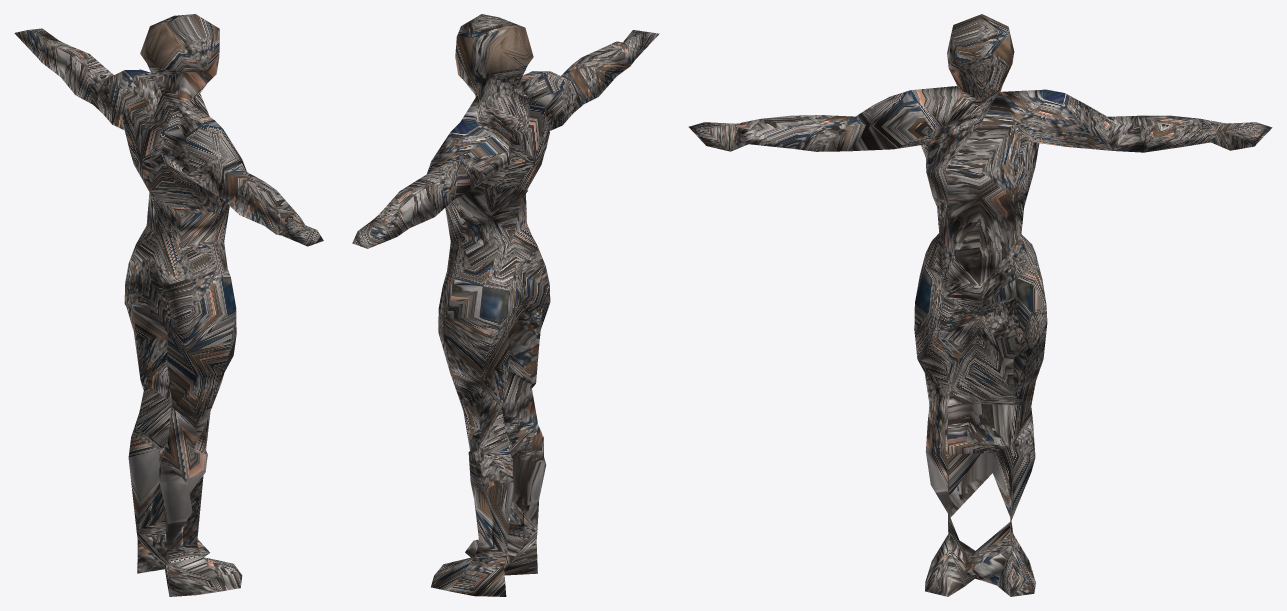
File: keepers-civilian.glb
The picture shows the model from 3 angles, left to right: view 1: azimuth 30°, elevation 25°; view 2: azimuth 150°, elevation 25°; view 3: azimuth 270°, elevation 25°; orthographic projection.
Size of the model in its own units: 0.171 by 0.9963 by 0.9425.
1 material, 1 textured.
